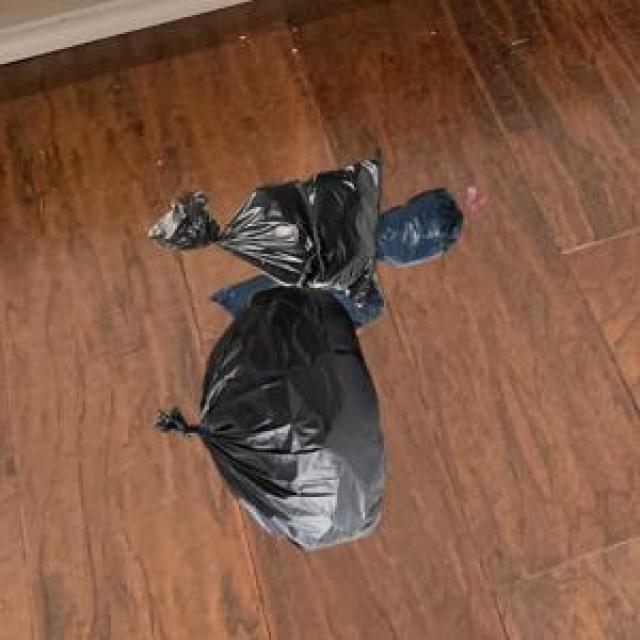Vinyl: (149, 160, 462, 548)
